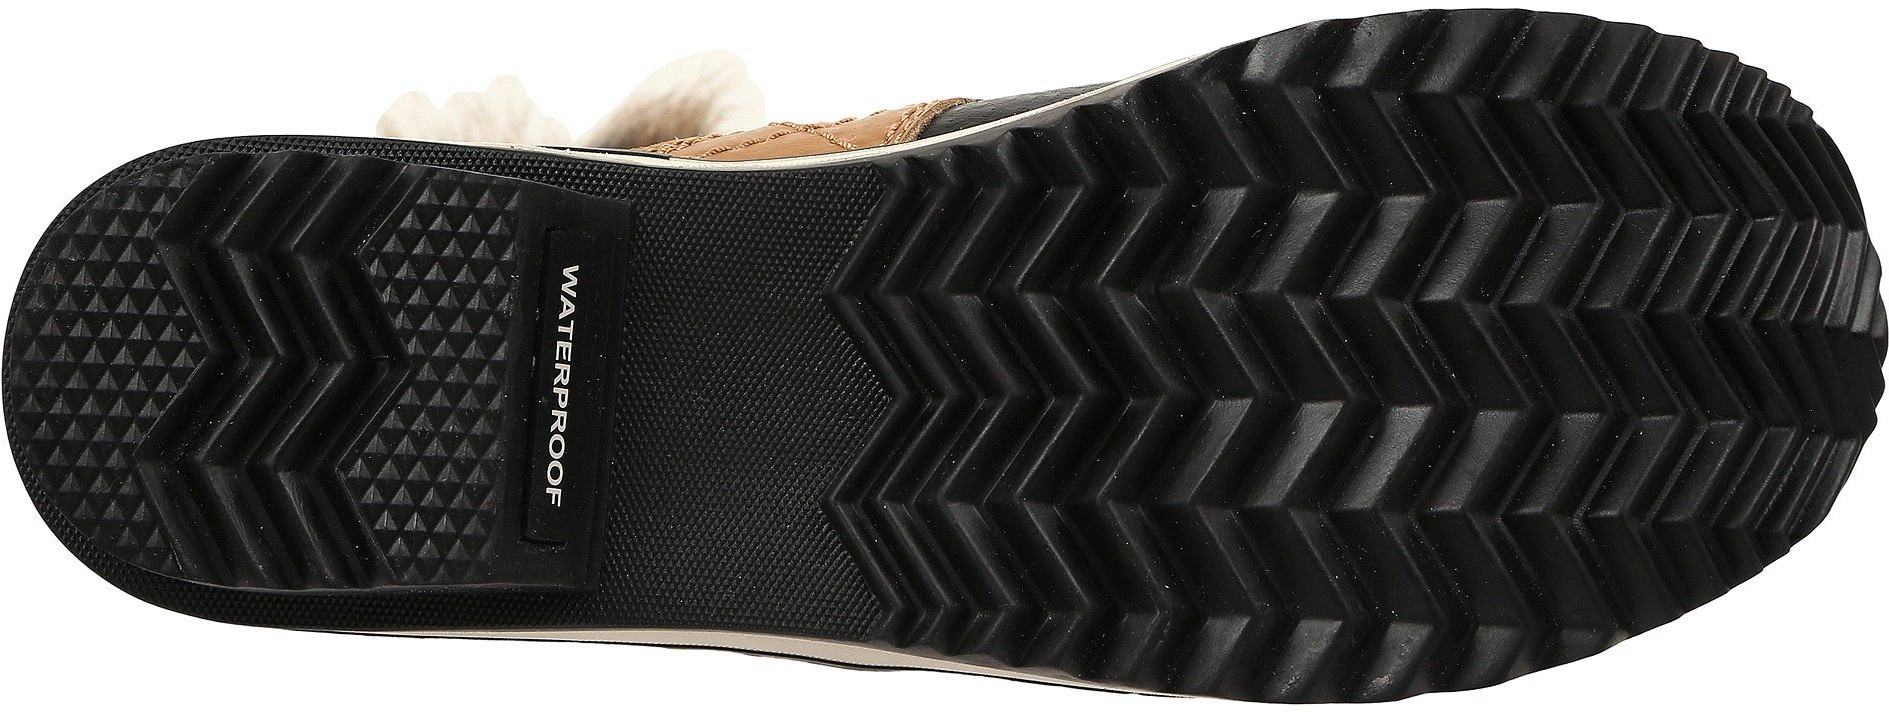chevron: (894, 164, 1159, 441), (1395, 273, 1670, 519), (1394, 39, 1630, 256), (1165, 308, 1382, 532), (1163, 79, 1378, 303), (966, 449, 1161, 663), (1693, 171, 1844, 320), (186, 385, 333, 536), (205, 175, 351, 317)
circle: (524, 206, 607, 568), (511, 379, 632, 504)
quad: (524, 206, 607, 568), (40, 256, 172, 402)
text: (524, 206, 607, 568), (519, 213, 639, 368), (511, 379, 632, 504)
triangle: (40, 256, 172, 402)
